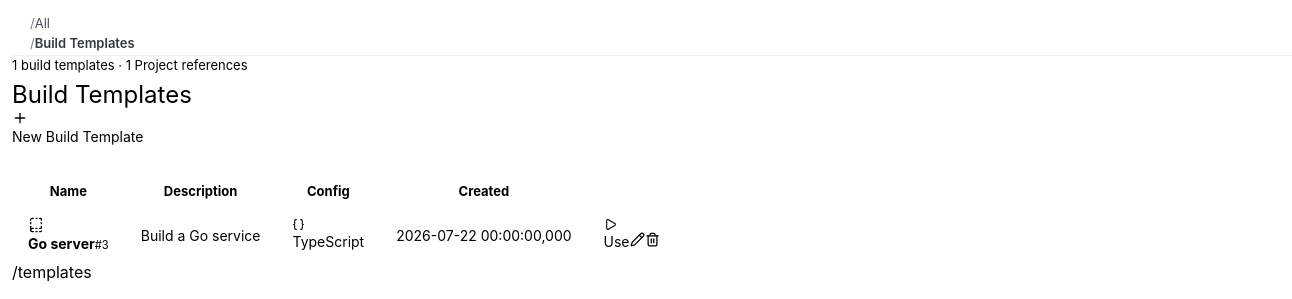
it: Build Templates workflow › renders real API data and sends Use to Jenkins New Item with template id
Check: the element with id "jenkins-header-breadcrumbs" reads "/ All / Build Templates", box [35,34,135,50]
Check: the element with class "jenkins-management-page" is shown, box [12,57,660,254]
Click the button with class "row-run". click: (617, 235)
box: [604,218,630,252]
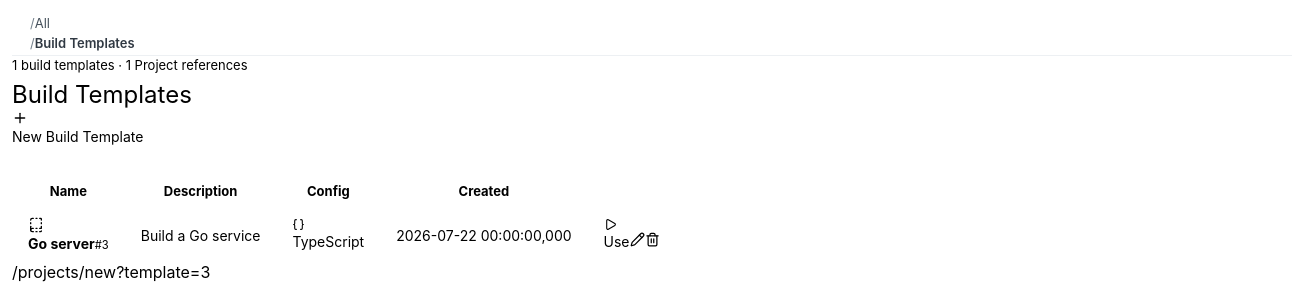
Check: the text "/projects/new?template=3" is shown, box [12,262,210,282]
